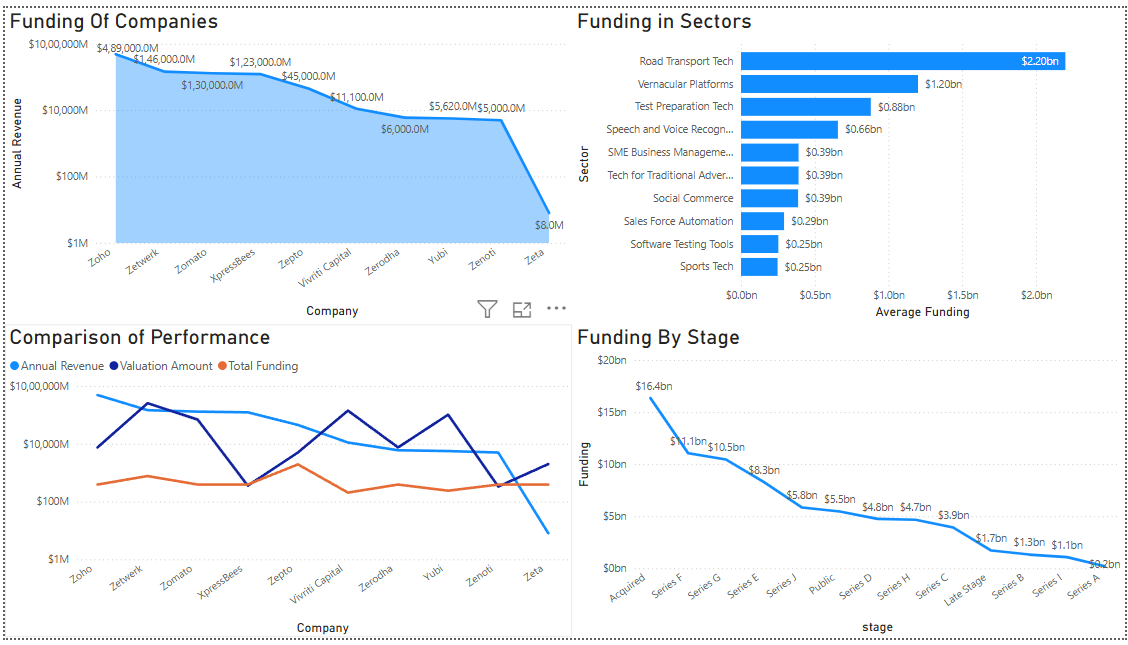

What the dashboard file says about the page in this screenshot:
{"tool":"powerbi","page":{"name":"Fundings","canvas":[1280,720],"ordinal":0},"visuals":[{"type":"areaChart","title":"Funding Of Companies","fields":{"Category":["Unicorn_Data.Company"],"Y":["Sum(Unicorn_Data.Annual_Revenue)"]},"box":[0,0,649.1,359.5],"z":0},{"type":"barChart","title":"Funding in Sectors","fields":{"Category":["Unicorn_Data.primary_sector"],"Y":["Avg(Unicorn_Data.Total_funding)"]},"box":[649,0,631,360],"z":1000},{"type":"lineChart","title":"Comparison of Performance","fields":{"Category":["Unicorn_Data.Company"],"Y":["Avg(Unicorn_Data.Annual_Revenue)","Avg(Unicorn_Data.Valuation_Amount)","Avg(Unicorn_Data.Total_funding)"]},"box":[0,360.9,649.1,359.5],"z":2000},{"type":"areaChart","title":"Funding By Stage","fields":{"Category":["Unicorn_Data.stage"],"Y":["Sum(Unicorn_Data.Total_funding)"]},"box":[649,361,631,359],"z":3000}]}

Visuals, with their boxes in screenshot pixels (x1, y1, x2, y2), scaled from the page's 1280x720 canvas onto the 1128x645 screenshot:
"Funding Of Companies" areaChart: rect(0, 0, 572, 322)
"Funding in Sectors" barChart: rect(572, 0, 1127, 322)
"Comparison of Performance" lineChart: rect(0, 323, 572, 644)
"Funding By Stage" areaChart: rect(572, 323, 1127, 644)
